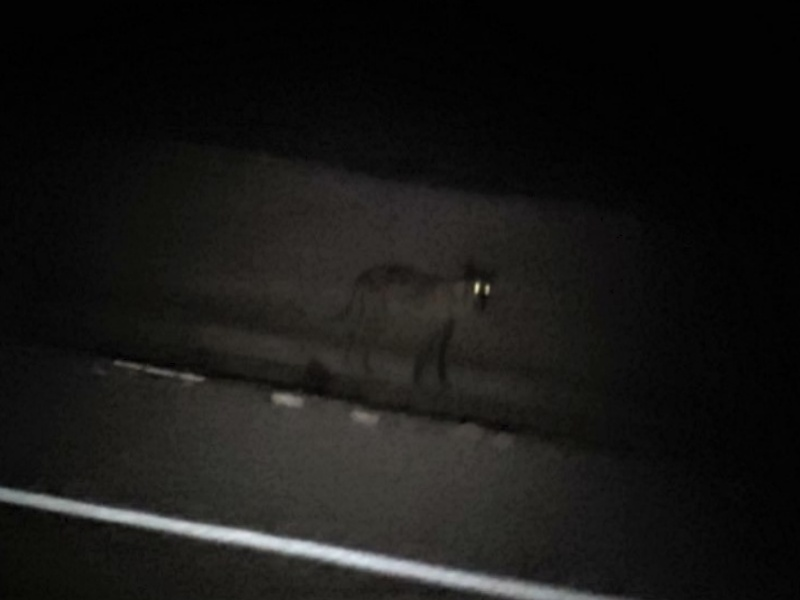dog: (327, 249, 501, 405)
